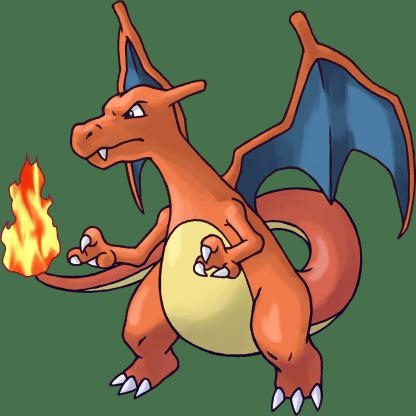Charizard: (6, 1, 416, 416)
